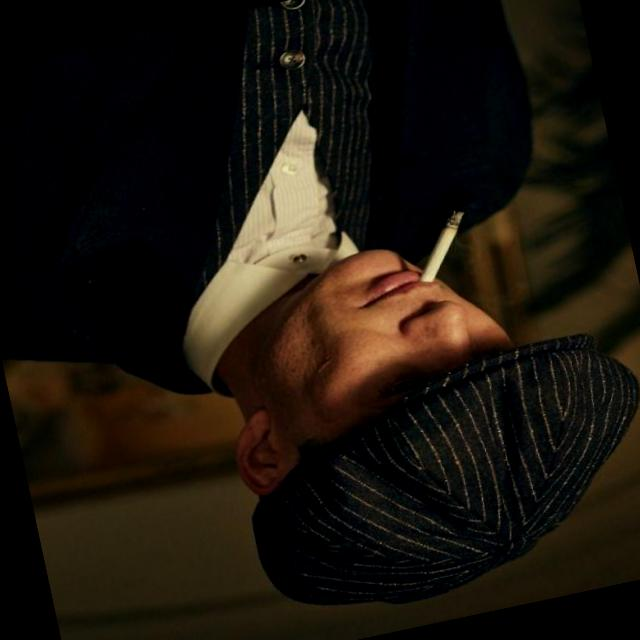smoke: (384, 198, 498, 296)
